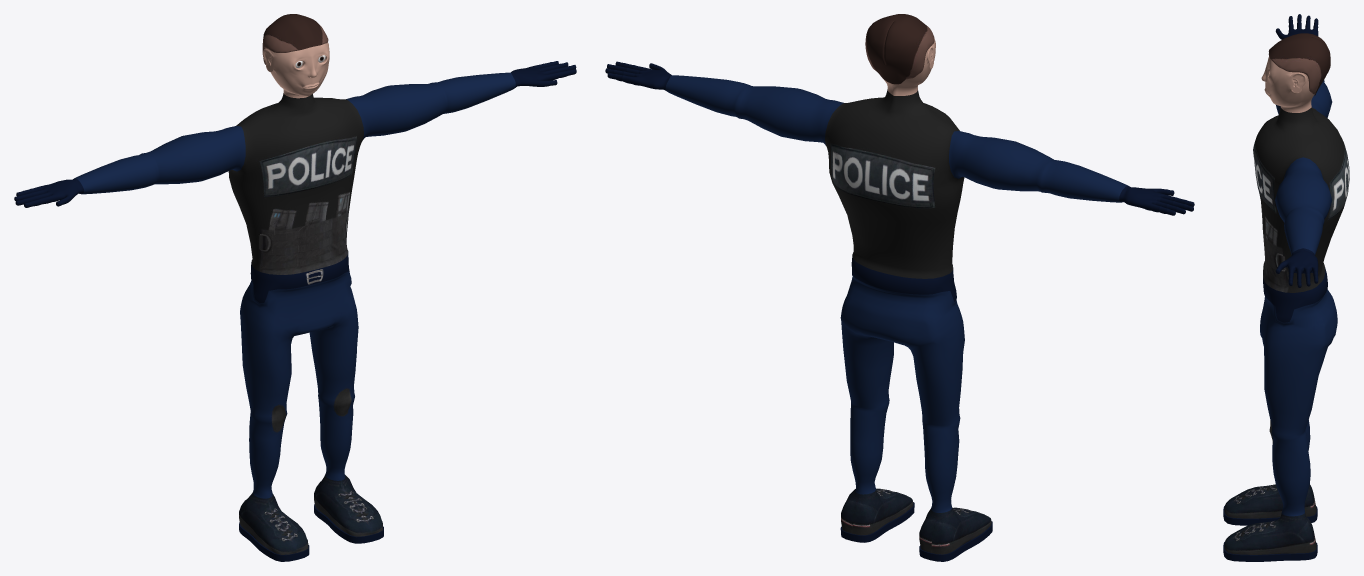
The model's file is policia.fbx.
The picture shows the model from 3 angles, left to right: view 1: azimuth 30°, elevation 25°; view 2: azimuth 150°, elevation 25°; view 3: azimuth 270°, elevation 25°; orthographic projection. The views are drawn at different scales.
Visible parts, largest first — view 1: modelado; view 2: modelado; view 3: modelado.
Boxes of the visible parts, x1,y1,x2,y2 form: modelado: [14, 14, 576, 561]; modelado: [605, 14, 1194, 561]; modelado: [1223, 14, 1349, 561].
Size of the model in its own units: 1142 by 982 by 226.
